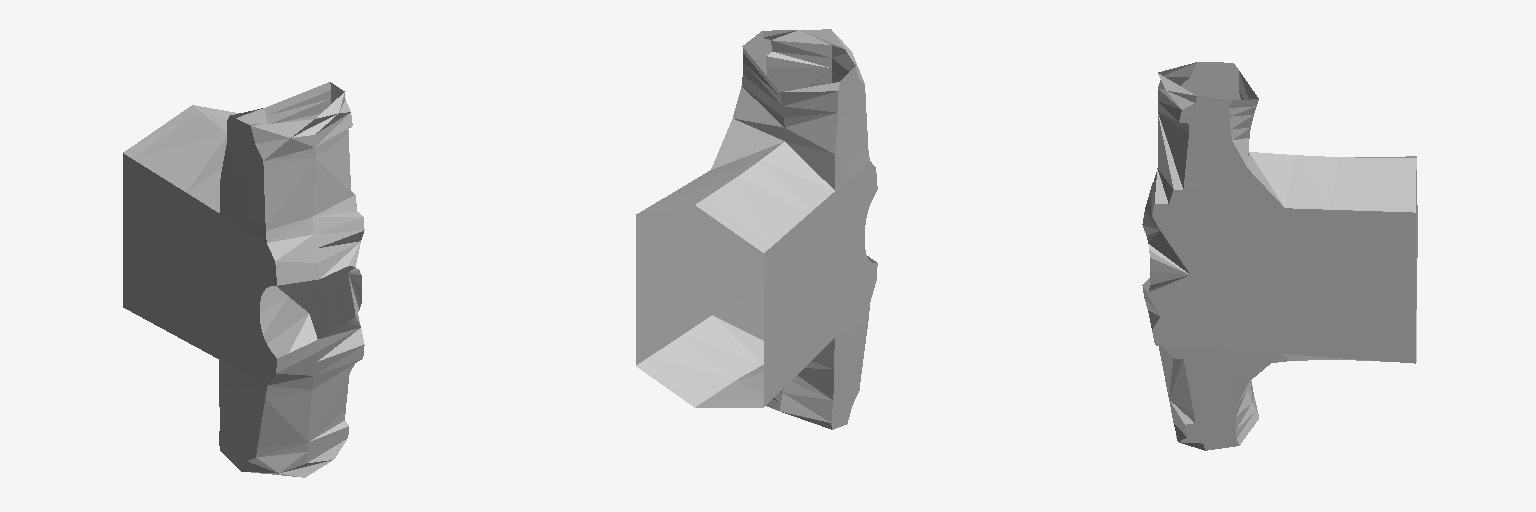
Rendered from tshirt_small.obj.
3 views of the same model, side by side, from view 1: azimuth 30°, elevation 25°; view 2: azimuth 150°, elevation 25°; view 3: azimuth 270°, elevation 25° (orthographic).
Size of the model in its own units: 0.1141 by 0.3094 by 0.2106.